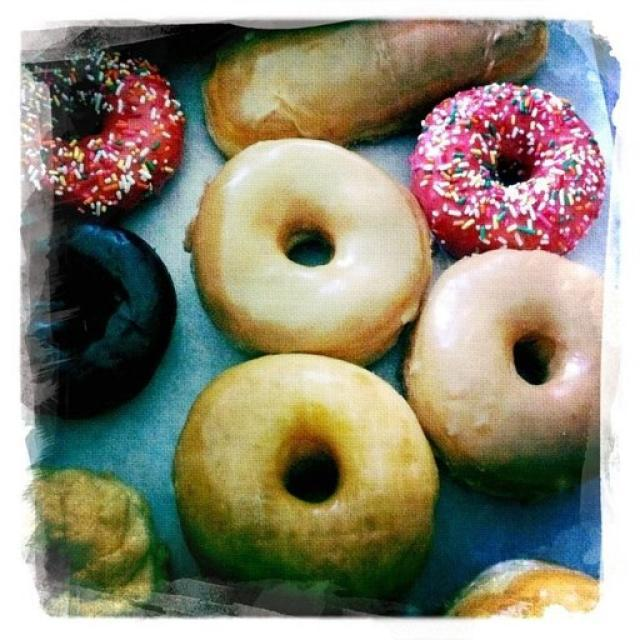Donuts: (15, 28, 587, 610)
